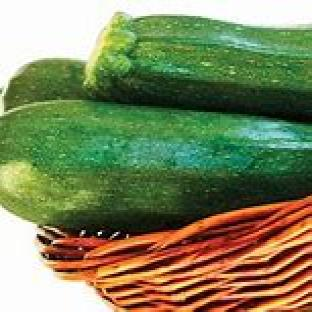Zucchini: (0, 100, 311, 231), (86, 14, 311, 119), (3, 58, 87, 109)
